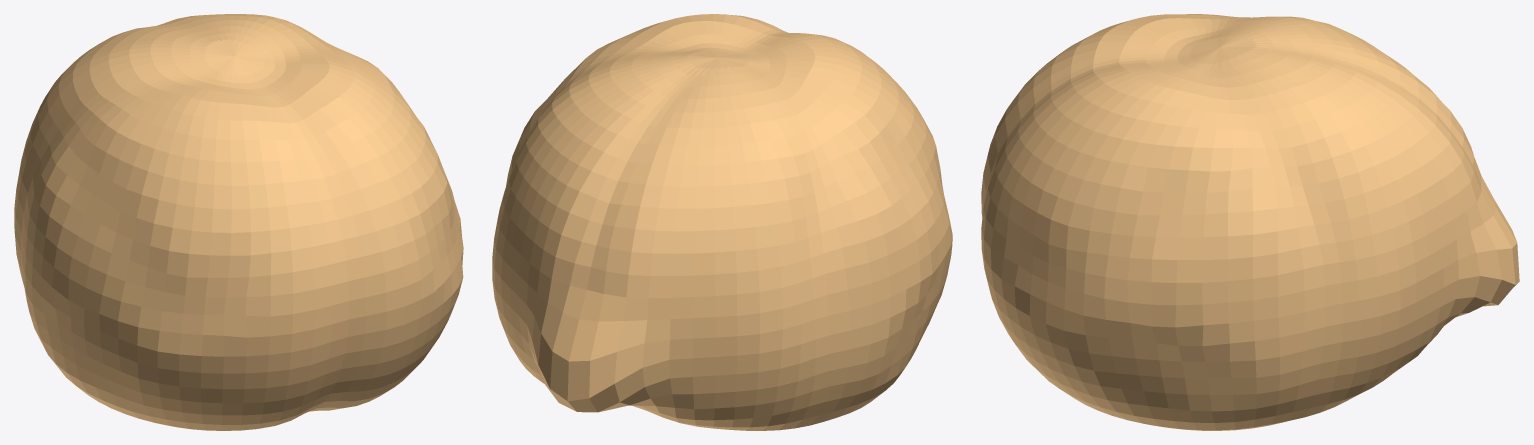
Rendered from nohut.fbx.
3 renders of one model, left to right at view 1: azimuth 30°, elevation 25°; view 2: azimuth 150°, elevation 25°; view 3: azimuth 270°, elevation 25°, orthographic. The views are drawn at different scales.
Visible parts, largest first — view 1: nohut; view 2: nohut; view 3: nohut.
Boxes of the visible parts, x1,y1,x2,y2 form: nohut: (14,14,463,430); nohut: (492,14,952,430); nohut: (981,14,1519,430).
Size of the model in its own units: 189 by 161 by 226.
